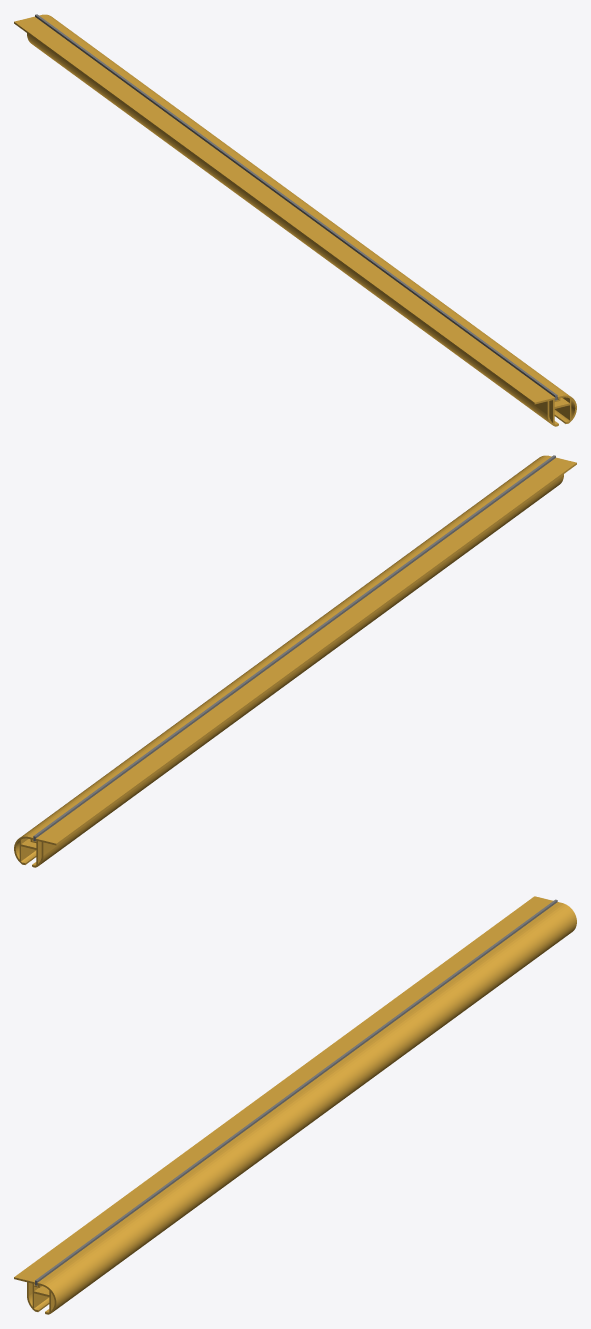
The model's file is decorative_hardware.obj.
3 renders of one model, top to bottom at view 1: azimuth 30°, elevation 25°; view 2: azimuth 150°, elevation 25°; view 3: azimuth 330°, elevation 25°, orthographic.
Visible parts, largest first — view 1: geo_ceilingMount_1, geo_fur; view 2: geo_ceilingMount_1, geo_fur; view 3: geo_ceilingMount_1, geo_fur.
Boxes of the visible parts, <box> form: geo_ceilingMount_1: <box>14,14,576,426</box>; geo_fur: <box>35,14,557,400</box>; geo_ceilingMount_1: <box>14,455,576,867</box>; geo_fur: <box>33,455,555,841</box>; geo_ceilingMount_1: <box>14,896,576,1314</box>; geo_fur: <box>35,899,557,1285</box>.
Size of the model in its own units: 1.13 by 0.7873 by 24.01.
